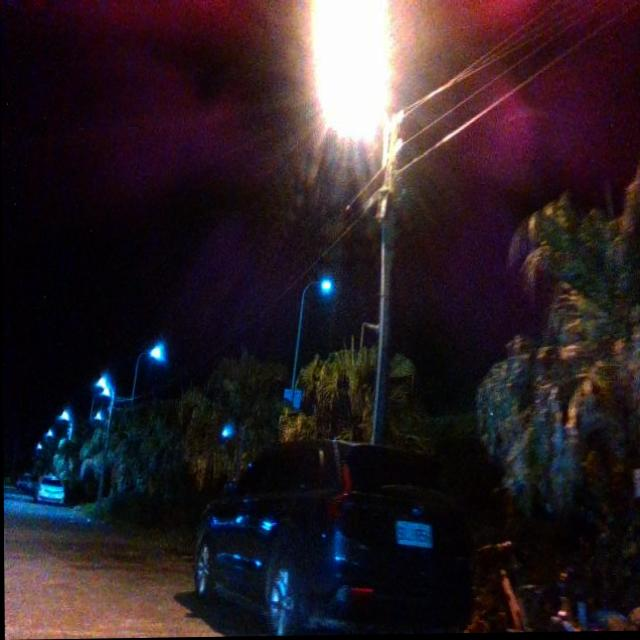pollute: (471, 544, 640, 633)
